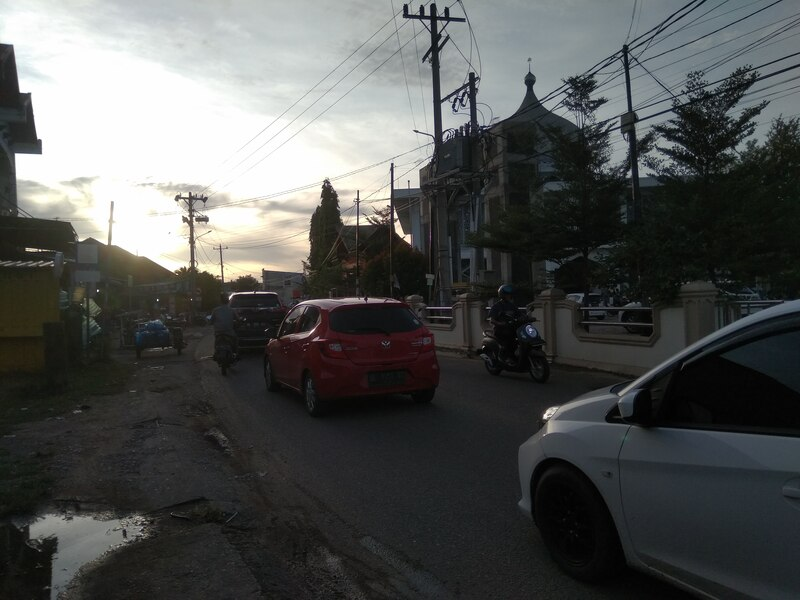car: (509, 295, 799, 600), (261, 293, 449, 424), (227, 288, 299, 362)
motorcycle: (476, 315, 556, 388), (209, 318, 252, 379)
